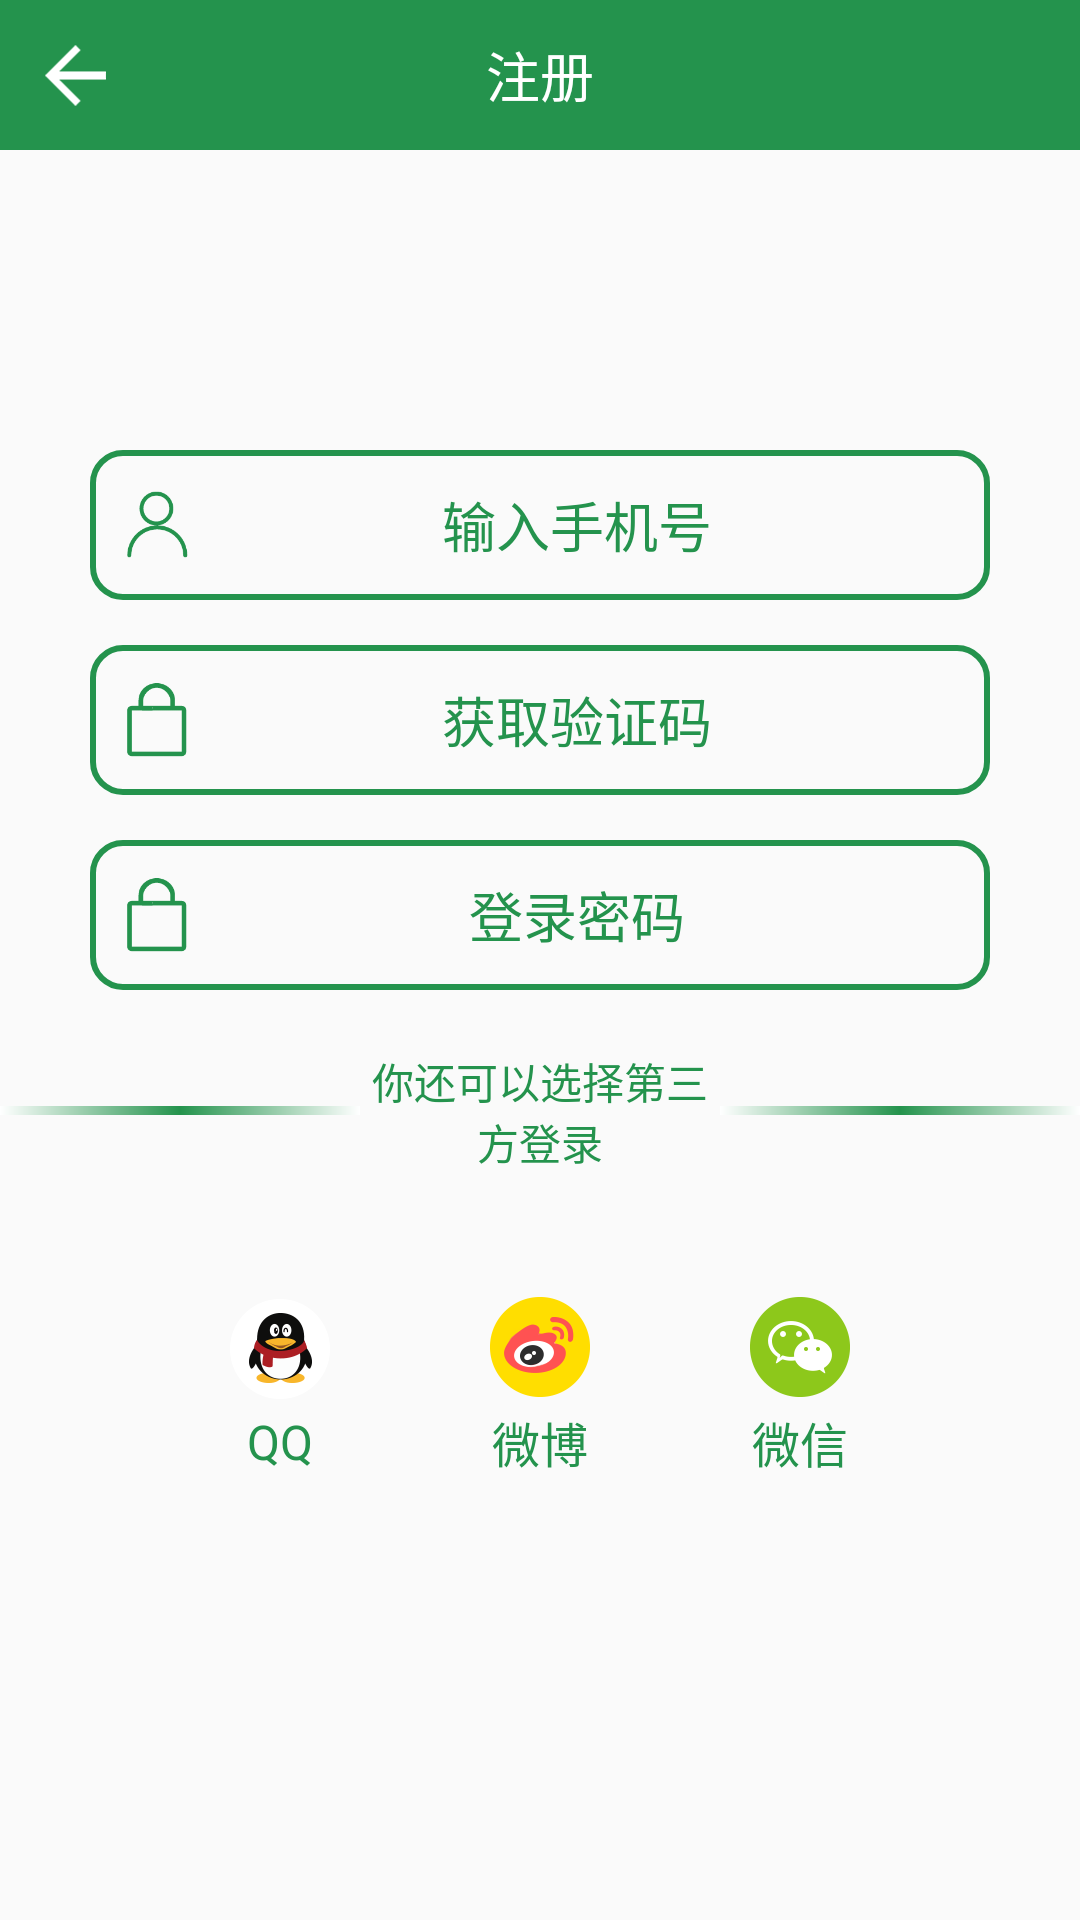

Screen size 1080x1920. Icon name, then its box in pixels as (x1, y1, x2, y2):
back: (45, 45, 106, 106)
login id: (127, 491, 188, 558)
login password: (127, 683, 187, 757), (127, 878, 187, 952)
